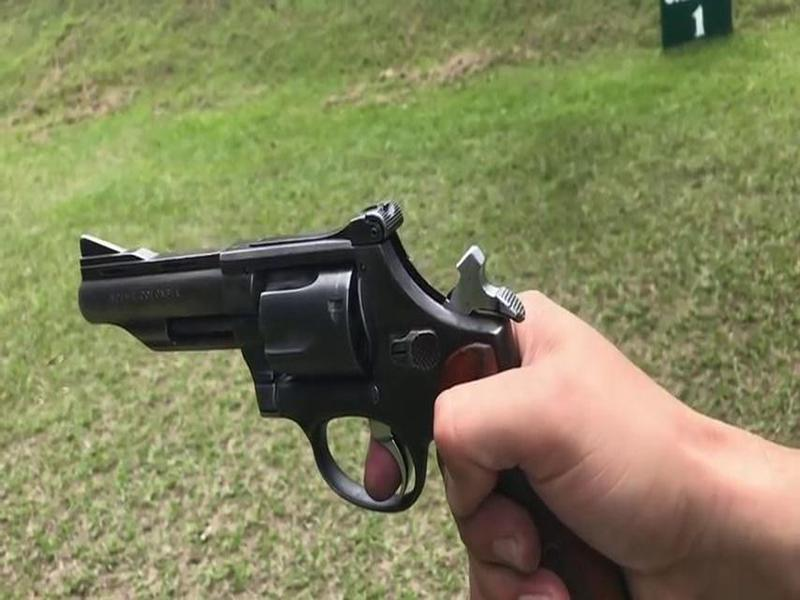Revolver: (67, 184, 527, 526)
